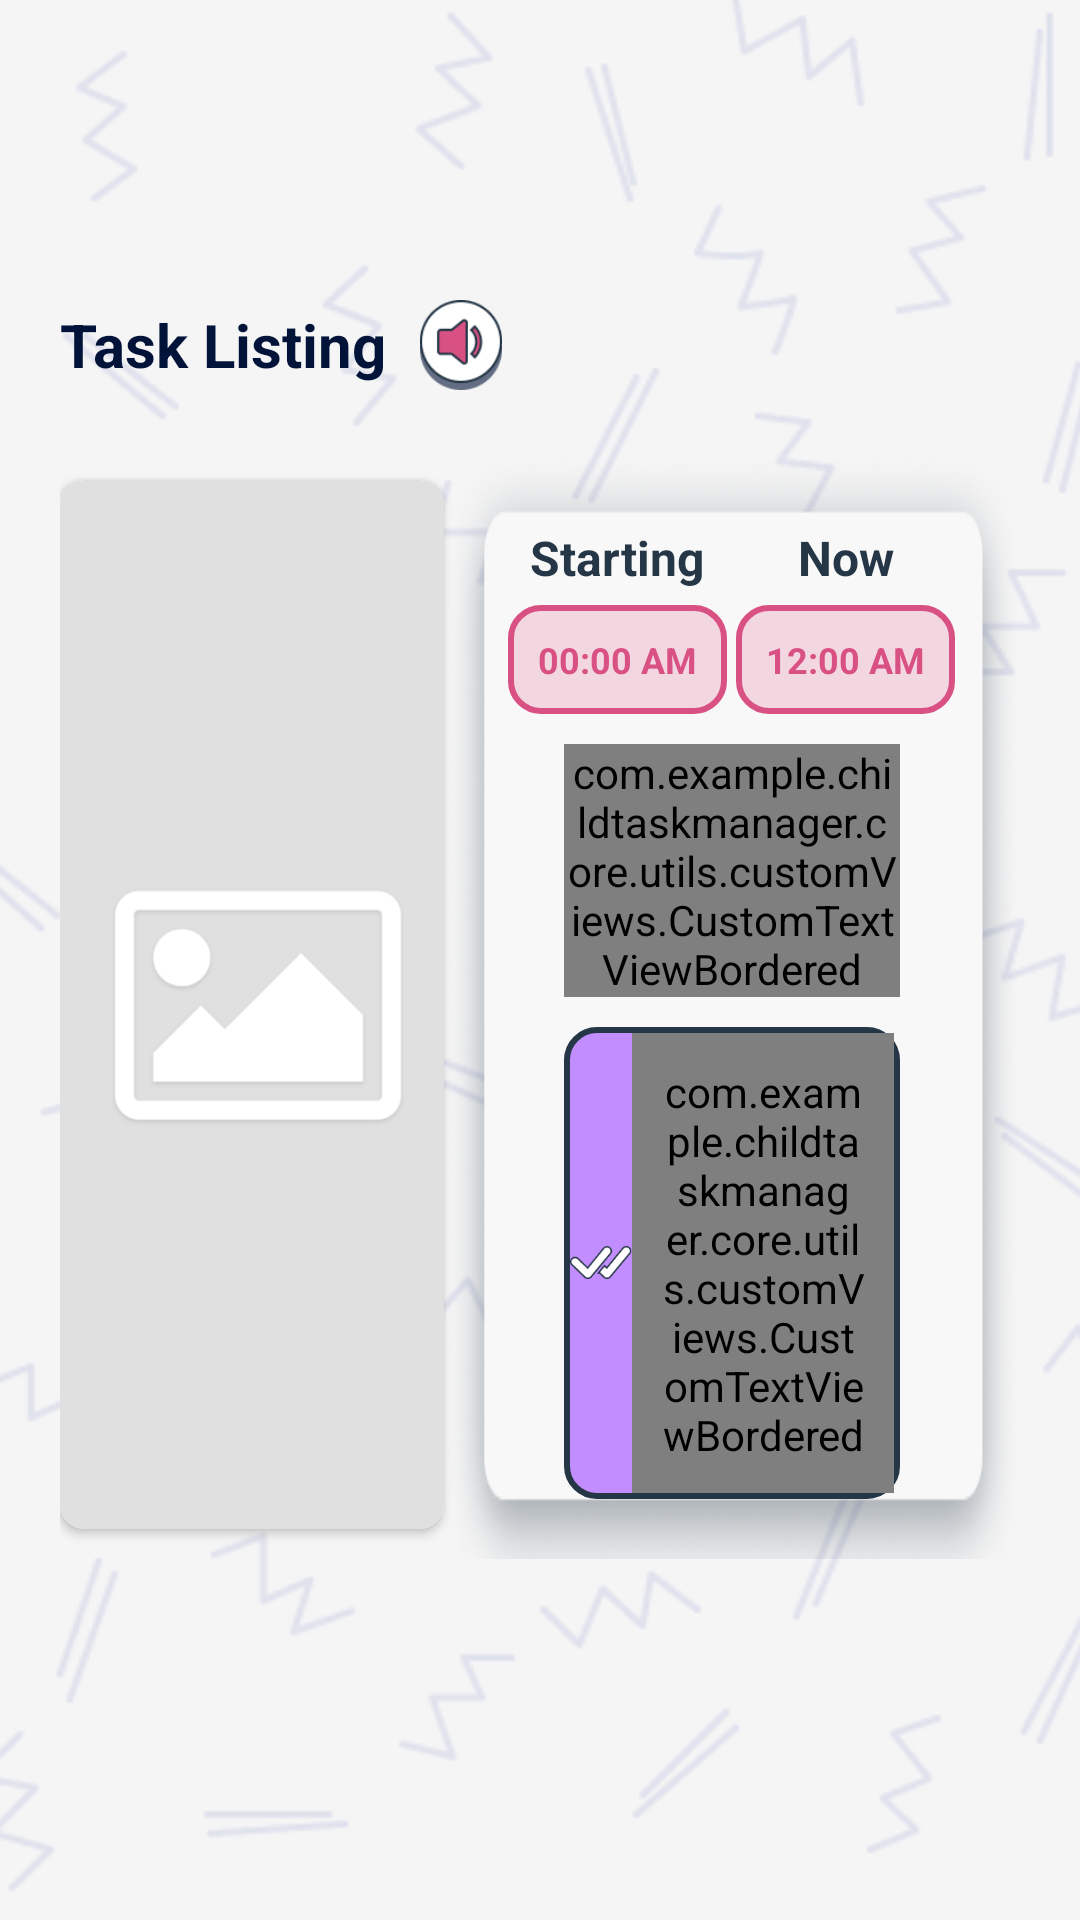

Named icons in this screenshot (1080x1920) and their centers, (x,y):
double tick ok: (601,1262)
Voice: (461,345)
